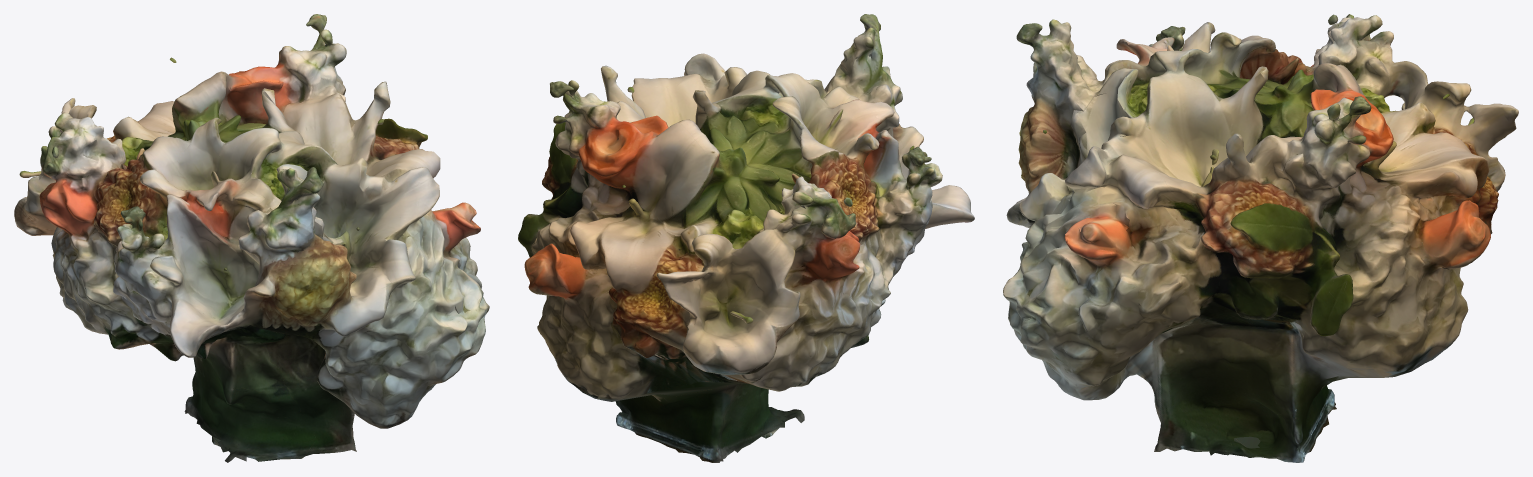
Rendered from obj_flowers_for_ines_52e996.glb.
3 views of the same model, side by side, from view 1: azimuth 30°, elevation 25°; view 2: azimuth 150°, elevation 25°; view 3: azimuth 270°, elevation 25° (orthographic). The views are drawn at different scales.
Visible parts, largest first — view 1: obj_flowers_for_ines_52e996; view 2: obj_flowers_for_ines_52e996; view 3: obj_flowers_for_ines_52e996.
Boxes of the visible parts, x1,y1,x2,y2 form: obj_flowers_for_ines_52e996: (14,14,489,462); obj_flowers_for_ines_52e996: (518,14,974,462); obj_flowers_for_ines_52e996: (1003,14,1518,462).
Bounding box in the file's own units: 0.4586 × 0.45 × 0.5482.
Materials: 1 (1 with a texture image).
